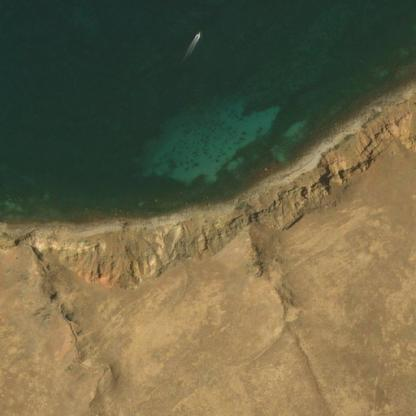ship: (188, 27, 206, 40)
